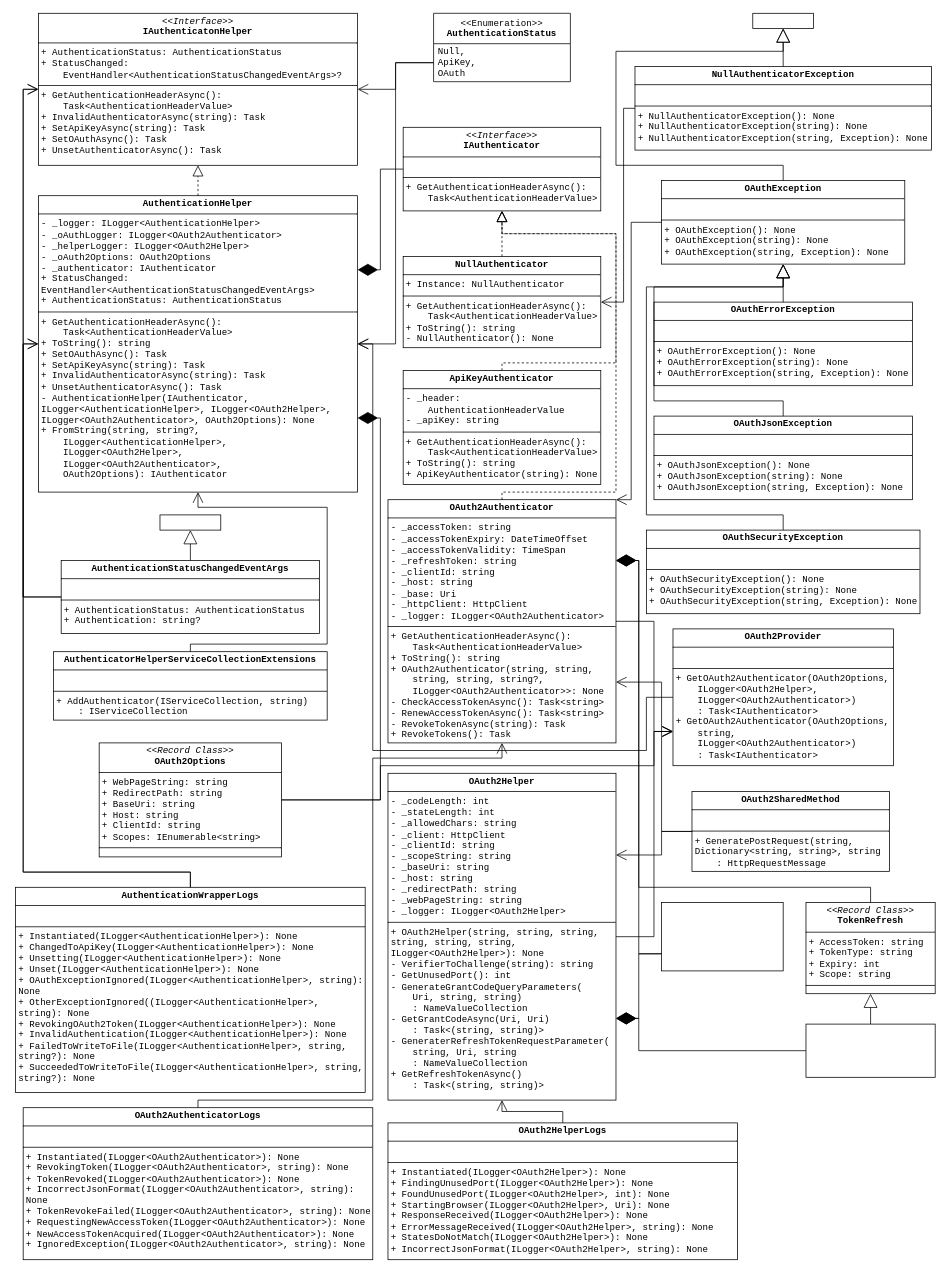
The diagram is 948 pixels wide and 1273 high, and some of its shapes have lost their labels. Each missing label, with the centre of its shape:
<<Record Class>> Error + Short: string + Description: string: the point at 722,936
<<Record Class>> TokenRequest + RefreshToken: string: the point at 870,1050
EventArgs: the point at 190,522
Exception: the point at 783,20
